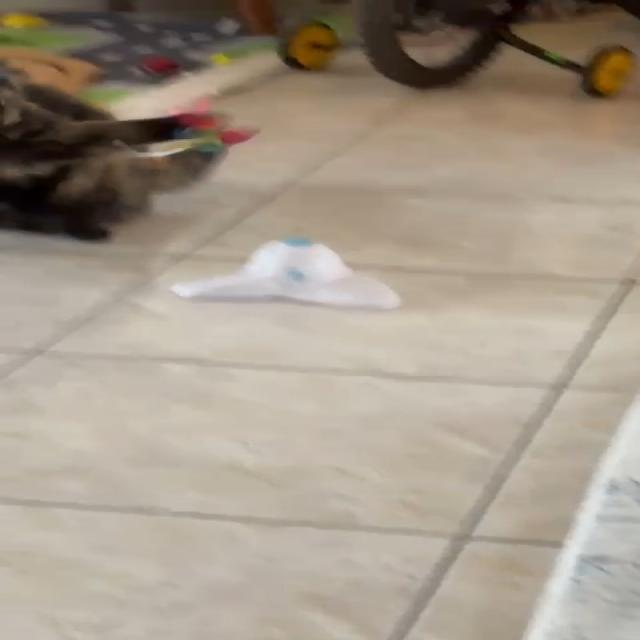authorized: (0, 60, 235, 242)
